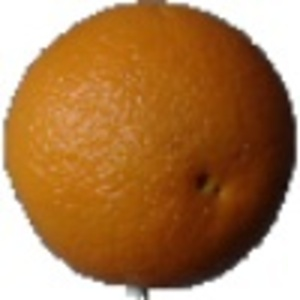laranja: (3, 3, 298, 299)
